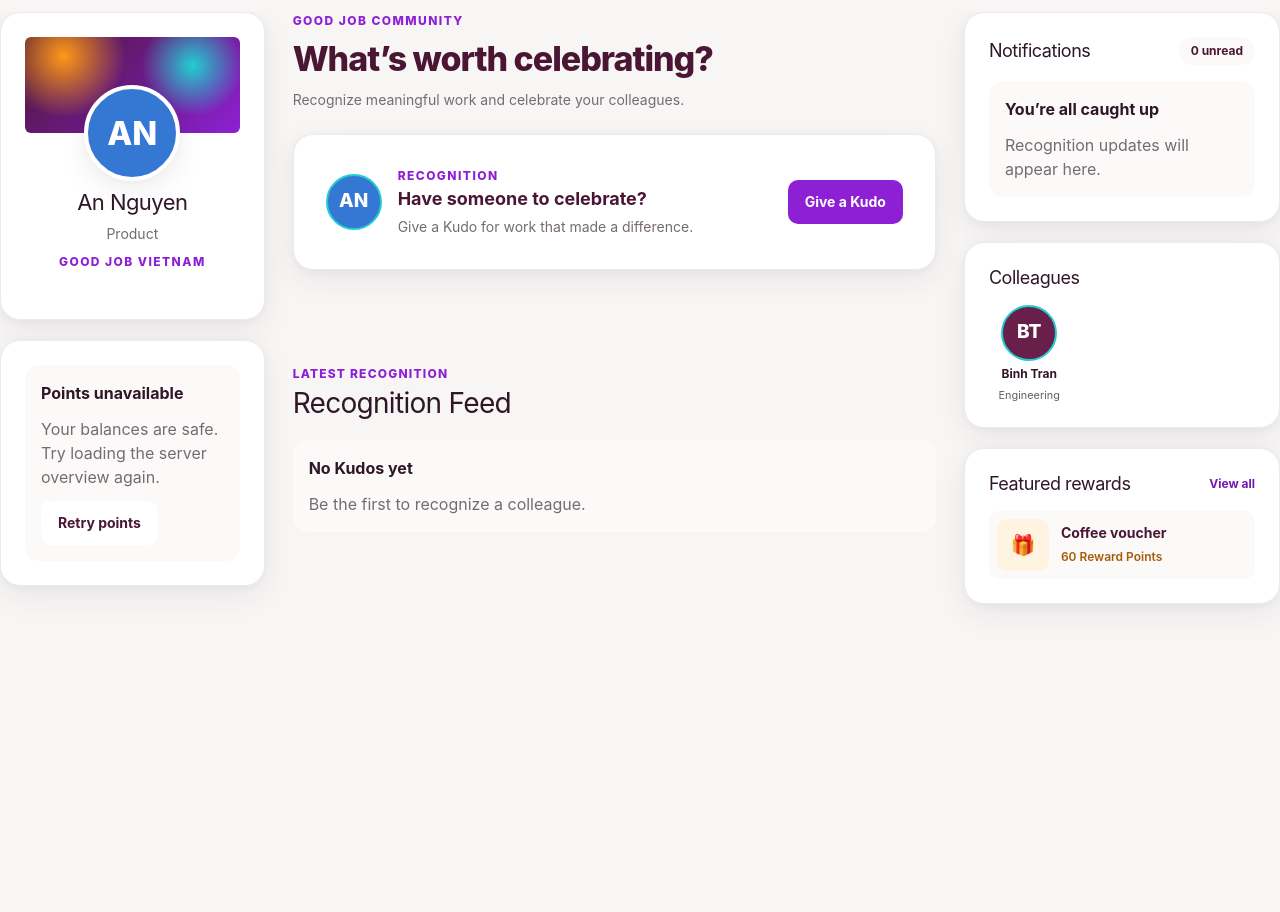
it: VR-3 Dashboard › keeps independent dashboard recovery surfaces usable
Expected: the text "Points unavailable" is shown, x1=41 y1=381 x2=183 y2=405
What coordinates should you click on to do the following:
click the button "Retry points"
I would click on:
 (100, 523)
Its box is x1=41 y1=501 x2=158 y2=545.
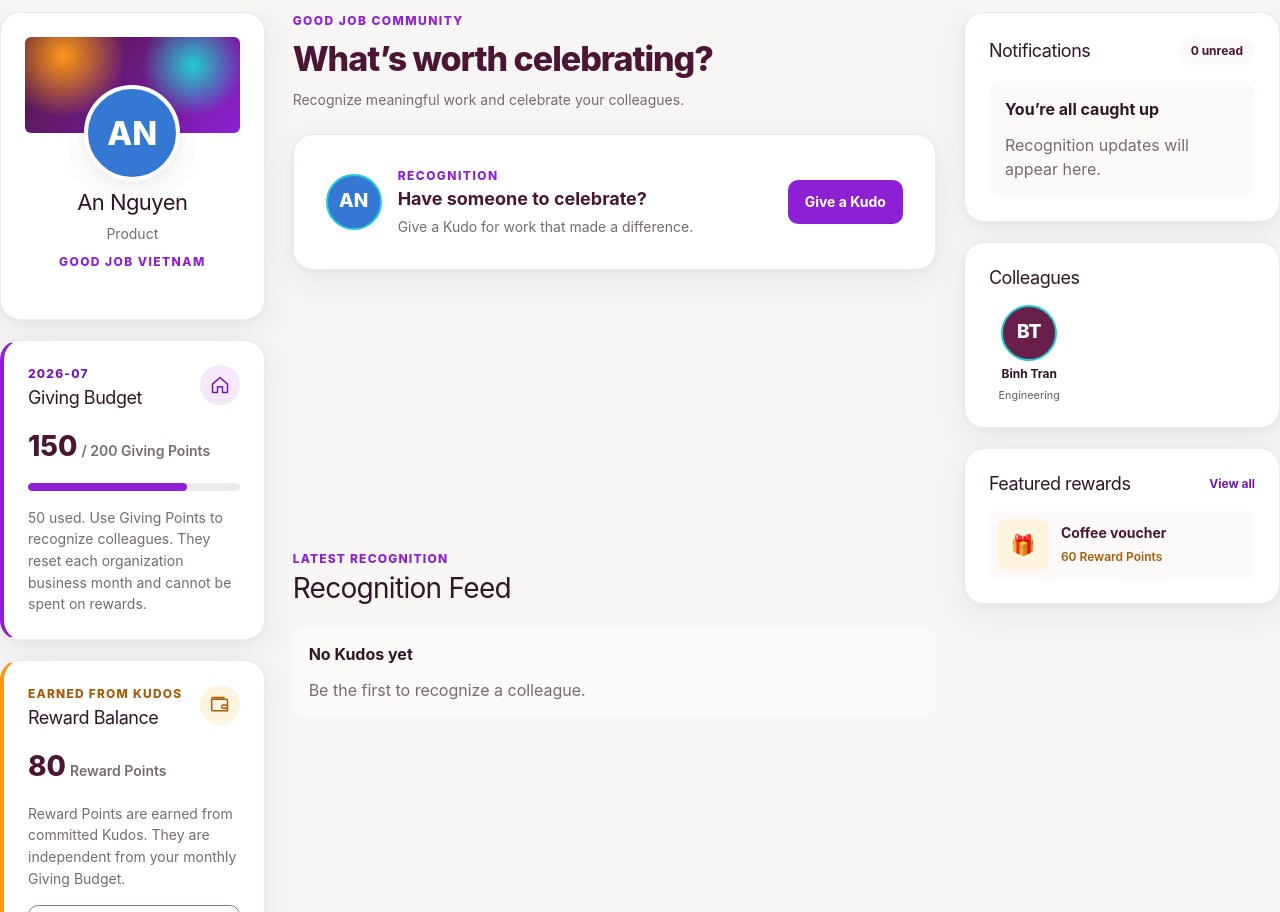
Now the heading "Giving Budget" is shown, box x1=28 y1=387 x2=142 y2=409
